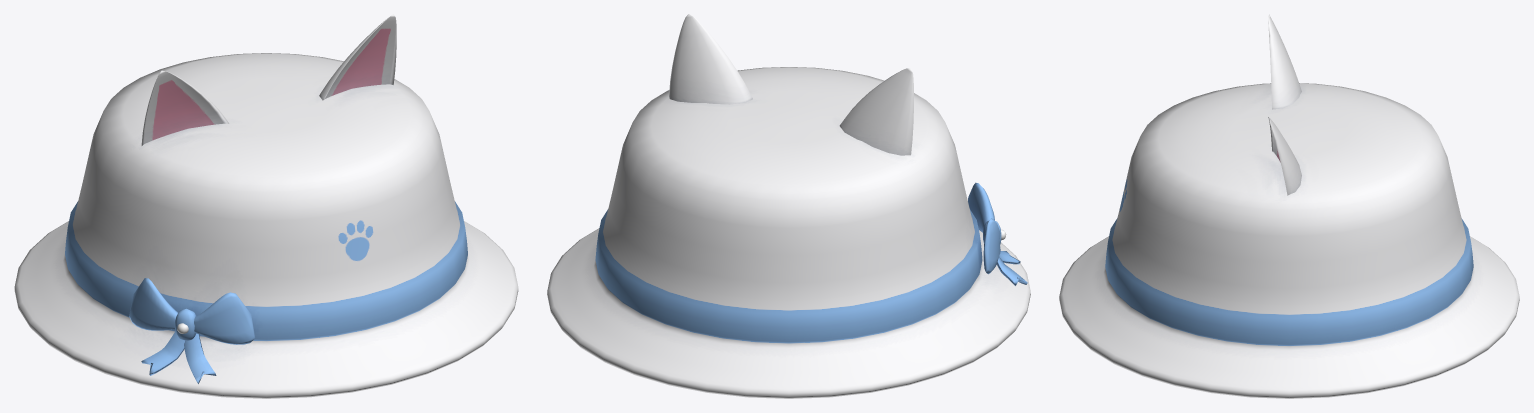
The model's file is NekoBucketHat_Nuage.fbx.
The picture shows the model from 3 angles, left to right: view 1: azimuth 30°, elevation 25°; view 2: azimuth 150°, elevation 25°; view 3: azimuth 270°, elevation 25°; orthographic projection. The views are drawn at different scales.
Parts seen in each view (by area): view 1: NekoBucketHat; view 2: NekoBucketHat; view 3: NekoBucketHat.
Boxes of the visible parts, left/top/right/bottom form: NekoBucketHat: left=14, top=14, right=518, bottom=398; NekoBucketHat: left=547, top=14, right=1030, bottom=398; NekoBucketHat: left=1059, top=14, right=1519, bottom=398.
Bounding box in the file's own units: 1.74 × 0.9888 × 1.74.
Materials: 1 (1 with a texture image).
